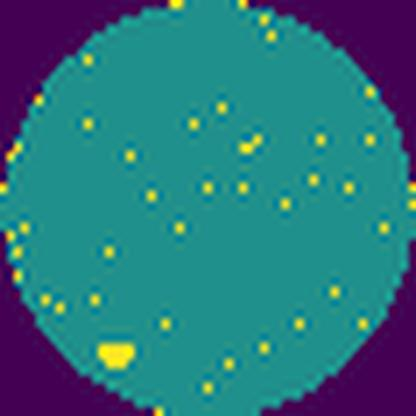Loc: (95, 341, 134, 370)
